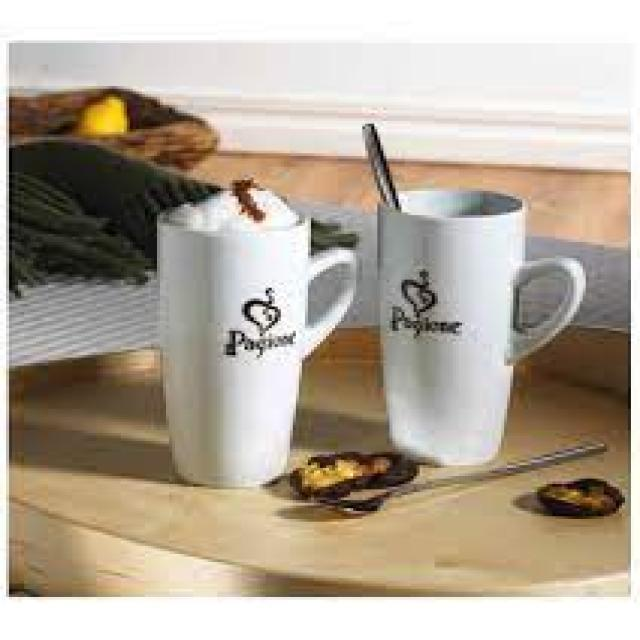taza: (144, 182, 362, 492), (364, 187, 591, 470)
